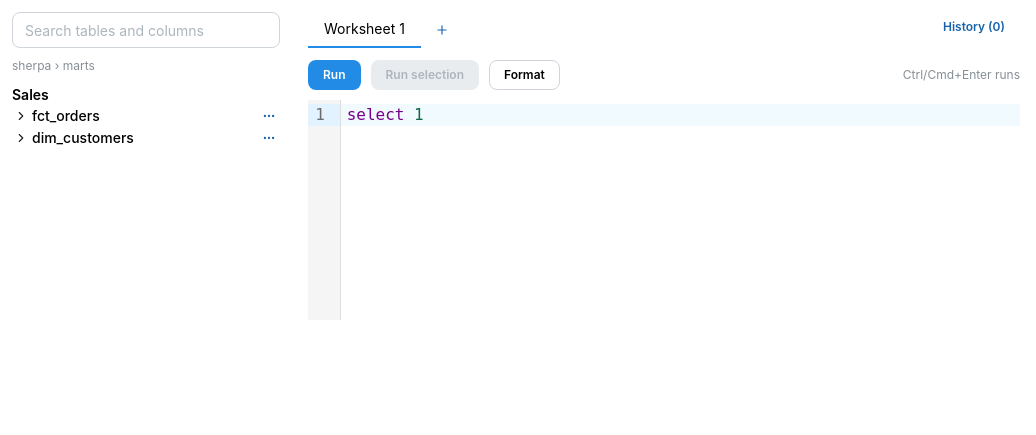
Explorer results › a pii_column error has its own title
Click the button "Run" at (334, 75), box [308,60,360,90]
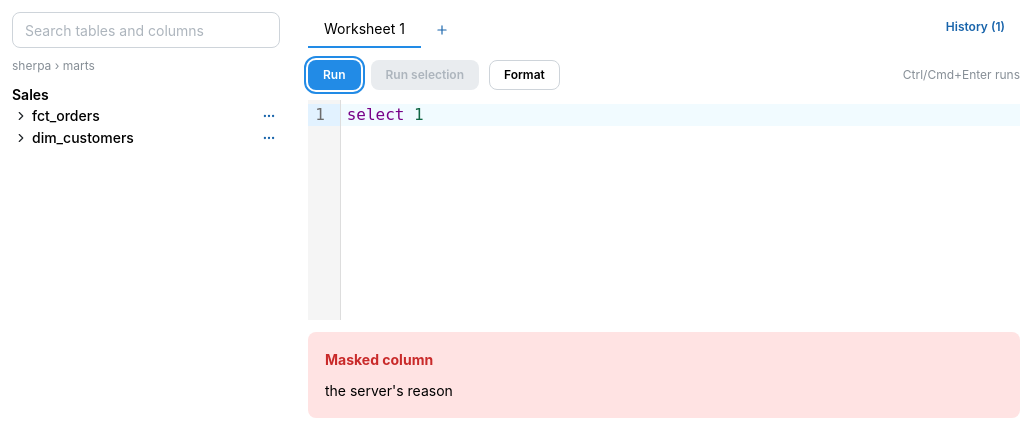
Now the text "Masked column" is shown, box [325,349,433,371]
Now the text "the server's reason" is shown, box [325,382,453,399]
